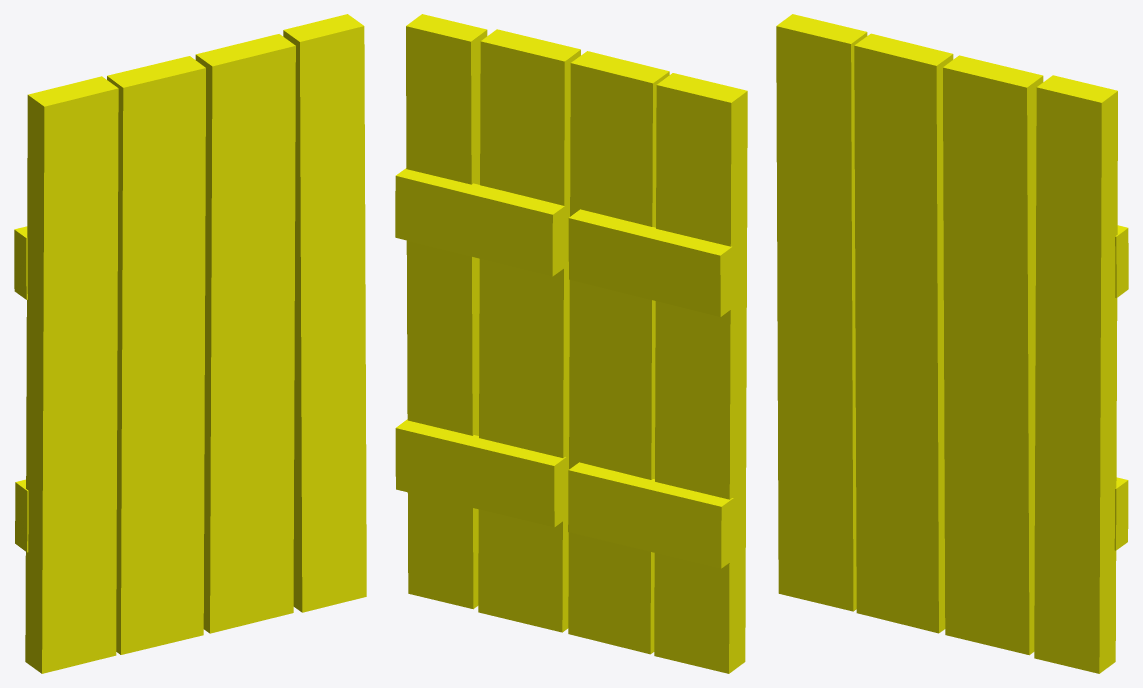
File: windowshutters-thin-flat-closed.glb
The picture shows the model from 3 angles, left to right: view 1: azimuth 30°, elevation 25°; view 2: azimuth 150°, elevation 25°; view 3: azimuth 330°, elevation 25°; orthographic projection.
Visible parts, largest first — view 1: WindowShutters_Thin_Flat_Closed; view 2: WindowShutters_Thin_Flat_Closed; view 3: WindowShutters_Thin_Flat_Closed.
Boxes of the visible parts, x1,y1,x2,y2 form: WindowShutters_Thin_Flat_Closed: (14, 14, 366, 673); WindowShutters_Thin_Flat_Closed: (395, 14, 747, 673); WindowShutters_Thin_Flat_Closed: (776, 14, 1128, 673).
Size of the model in its own units: 0.8518 by 1.42 by 0.1358.
Materials: 1 (1 with a texture image).
